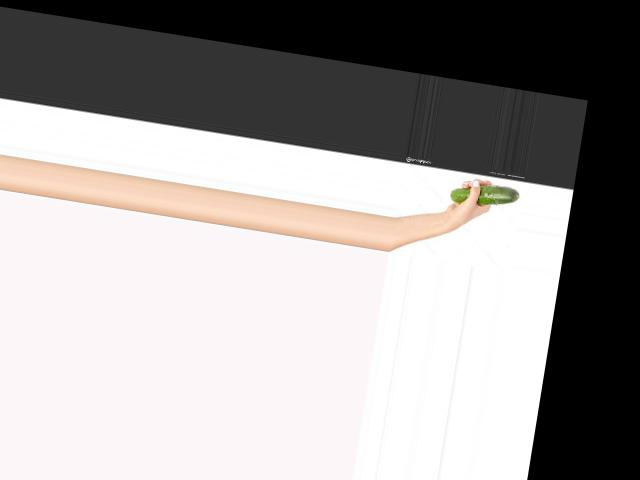cucumber: (450, 177, 521, 212)
